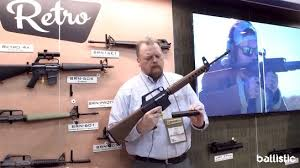Gun: (132, 57, 217, 116), (19, 53, 108, 79)
